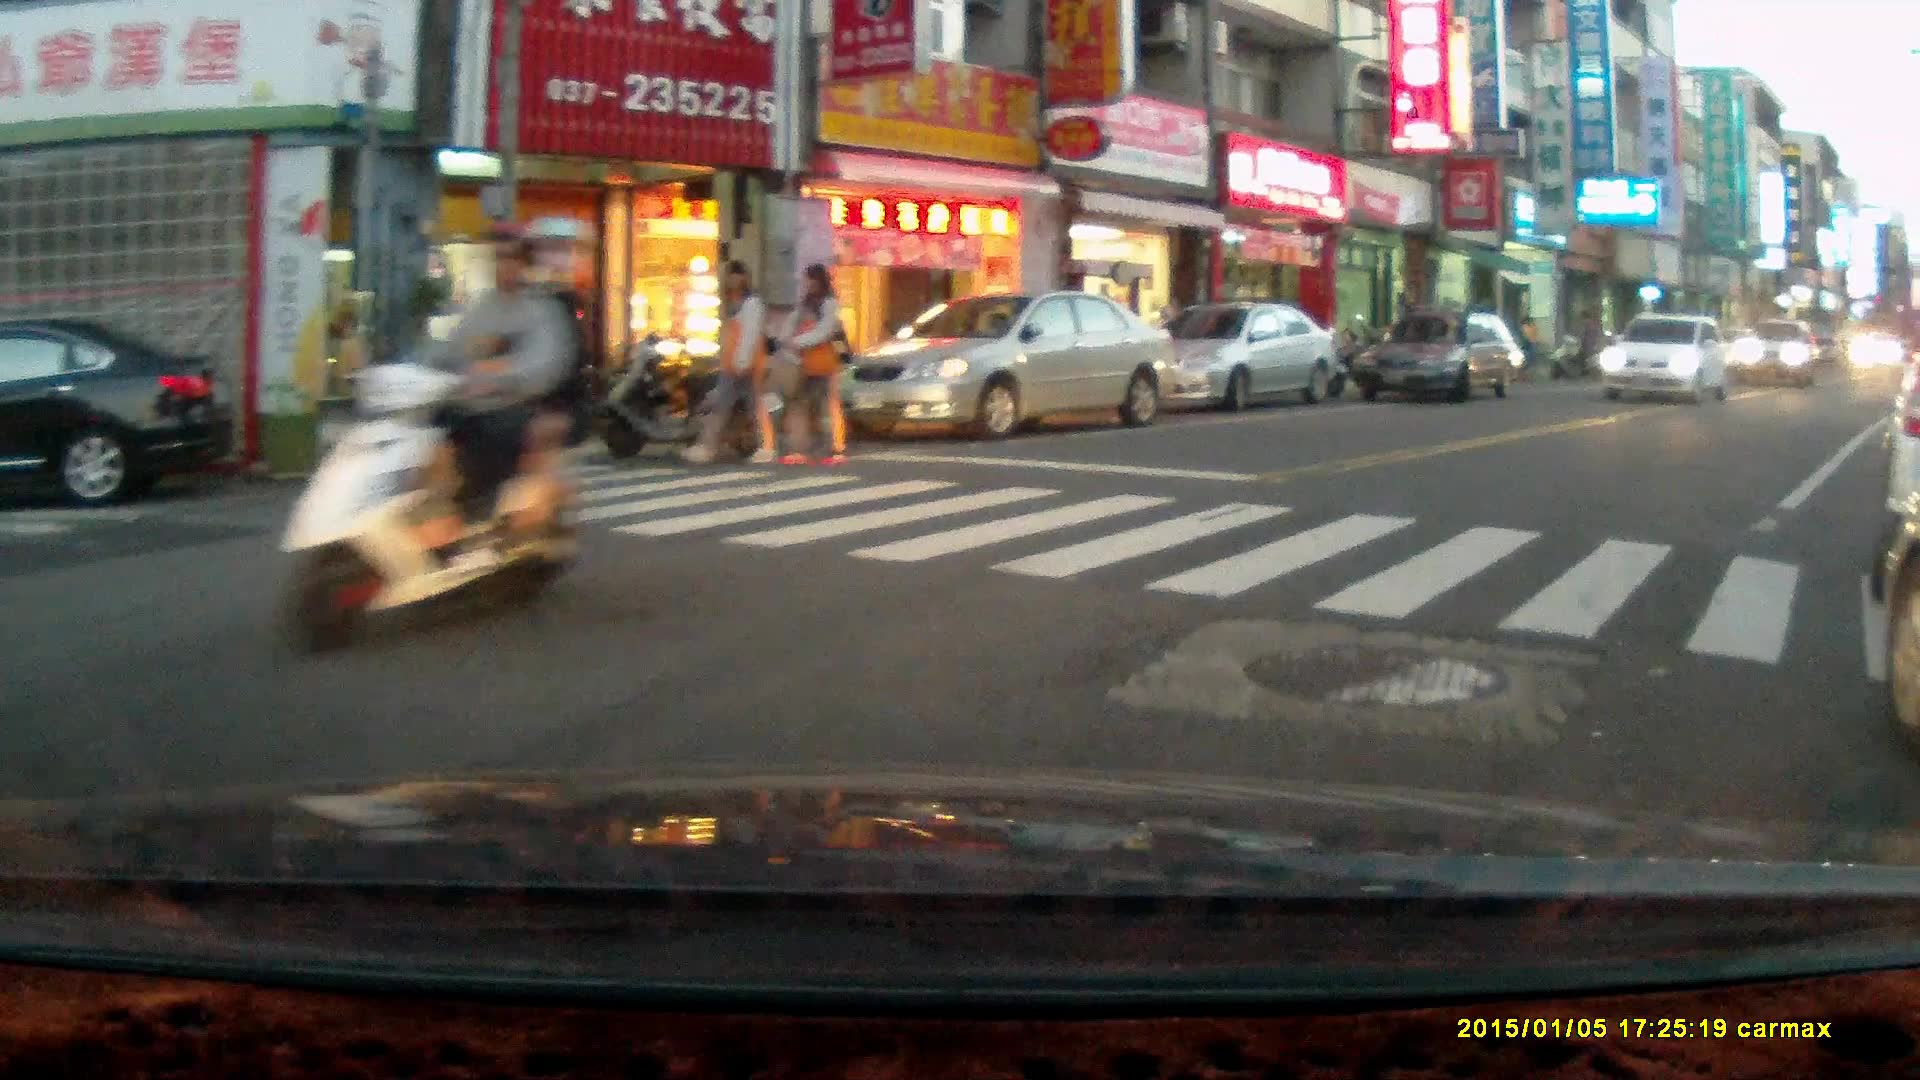pedestrian: (680, 258, 779, 467), (770, 260, 853, 469)
rider: (271, 213, 589, 665)
vehicle: (827, 294, 1178, 441), (1, 310, 238, 508), (1122, 300, 1340, 413), (1353, 311, 1530, 405), (1595, 314, 1733, 403), (1727, 318, 1824, 389), (1842, 329, 1898, 375)
